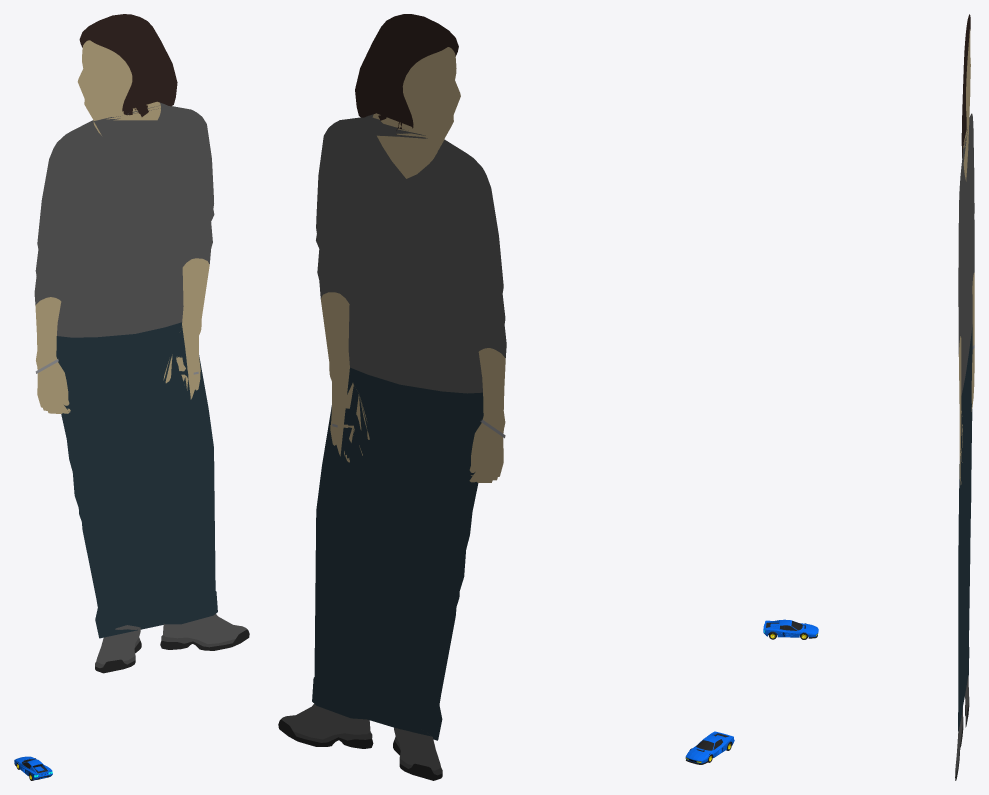
File: Car_blue.obj
3 views of the same model, side by side, from view 1: azimuth 30°, elevation 25°; view 2: azimuth 150°, elevation 25°; view 3: azimuth 270°, elevation 25° (orthographic). The views are drawn at different scales.
Parts seen in each view (by area): view 1: Mesh1 Susan1 Model; view 2: Mesh1 Susan1 Model; view 3: Mesh1 Susan1 Model.
Part boxes in pixels (x1,y1,x2,y2): Mesh1 Susan1 Model: [34, 14, 249, 673]; Mesh1 Susan1 Model: [278, 14, 506, 780]; Mesh1 Susan1 Model: [955, 14, 974, 780].
Size of the model in its own units: 32.32 by 66.68 by 18.25.
